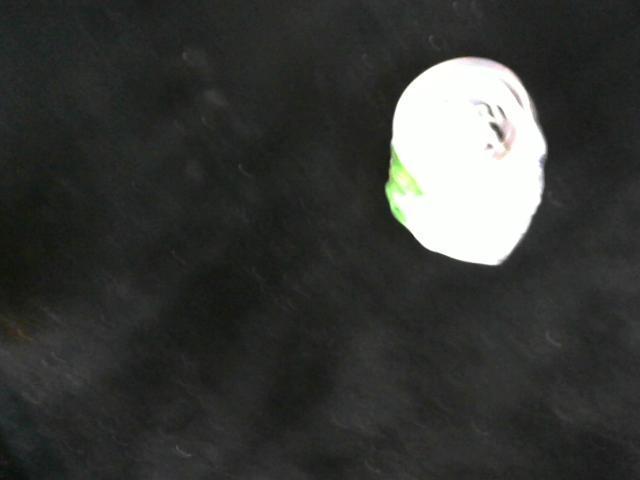can: (370, 44, 556, 271)
